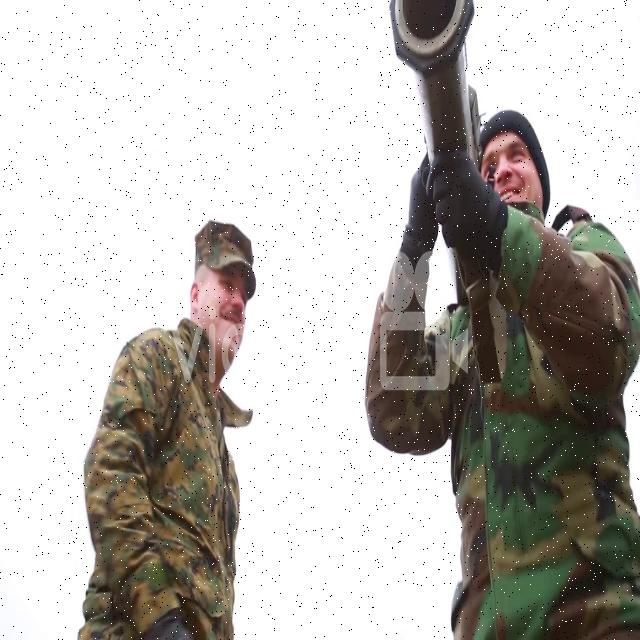bazooka: (387, 1, 498, 315)
